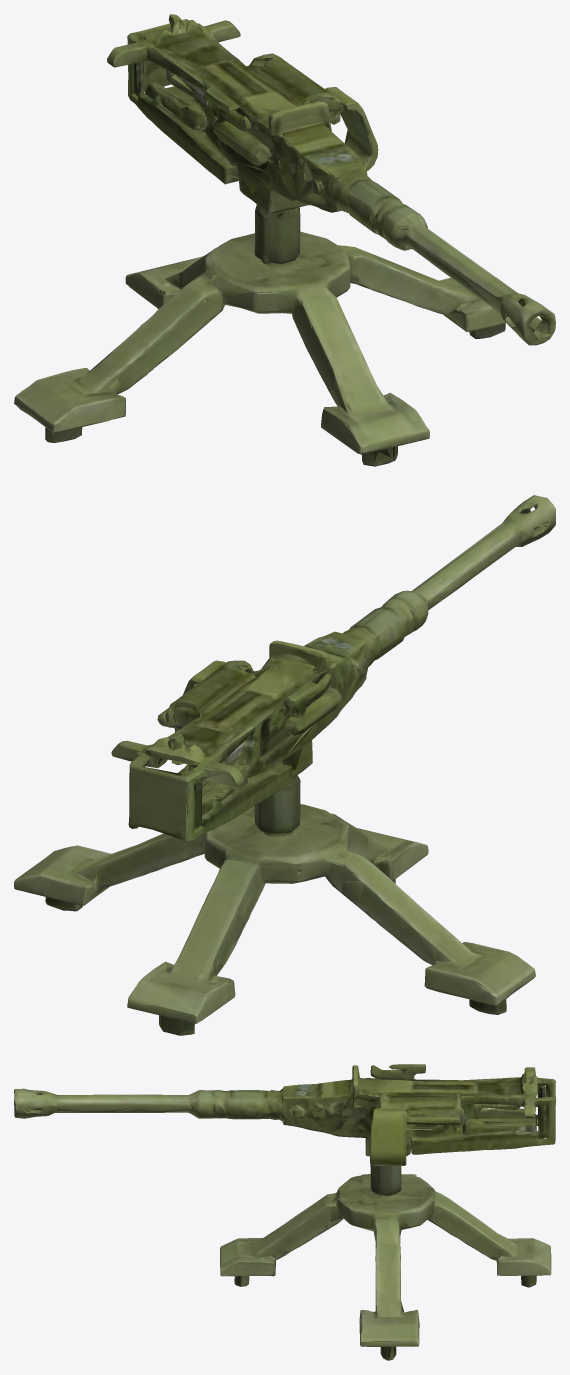
File: tripod_mg.glb
3 renders of one model, top to bottom at view 1: azimuth 30°, elevation 25°; view 2: azimuth 150°, elevation 25°; view 3: azimuth 270°, elevation 25°, orthographic. The views are drawn at different scales.
Visible parts, largest first — view 1: model, mesh_lod; view 2: model, mesh_lod; view 3: model, mesh_lod.
Boxes of the visible parts, x1,y1,x2,y2 form: model: (14,14,555,466); mesh_lod: (15,14,550,466); model: (14,495,555,1035); mesh_lod: (17,502,552,1035); model: (14,1064,555,1360); mesh_lod: (18,1064,554,1359).
Size of the model in its own units: 1.09 by 0.6398 by 1.5.
1 material, 1 textured.
